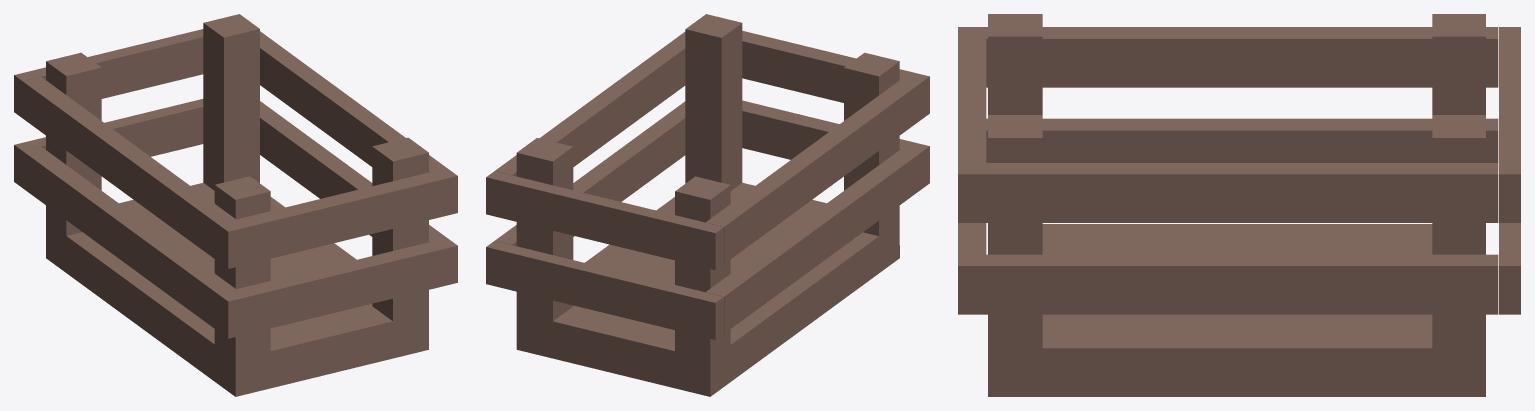
Rendered from hollow_box_top_panjang.glb.
The picture shows the model from 3 angles, left to right: view 1: azimuth 30°, elevation 25°; view 2: azimuth 150°, elevation 25°; view 3: azimuth 270°, elevation 25°; orthographic projection. The views are drawn at different scales.
Parts seen in each view (by area): view 1: rock02_Mesh_007_Base_0.4337; view 2: rock02_Mesh_007_Base_0.4337; view 3: rock02_Mesh_007_Base_0.4337.
Part boxes in pixels (box(x1,y1,x2,y2)): rock02_Mesh_007_Base_0.4337: box(14, 14, 457, 396); rock02_Mesh_007_Base_0.4337: box(486, 14, 929, 396); rock02_Mesh_007_Base_0.4337: box(958, 14, 1520, 396).
Bounding box in the file's own units: 0.714 × 0.5858 × 1.15.
Materials: 1 (1 with a texture image).
